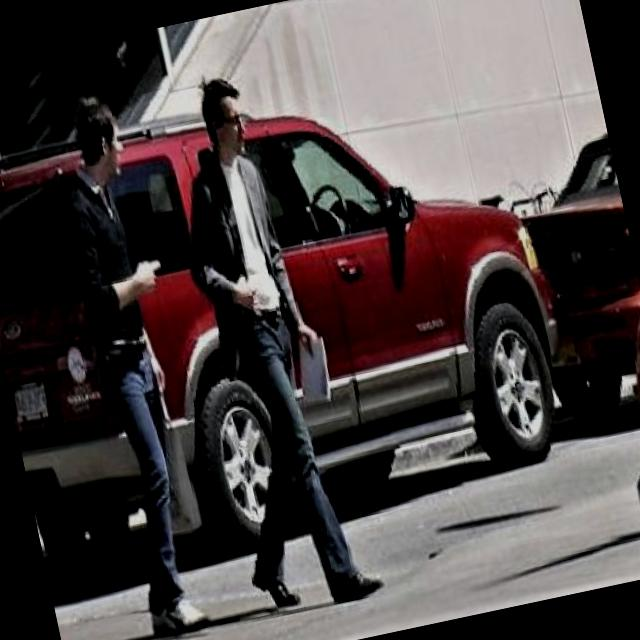Person: (146, 61, 388, 622), (26, 77, 243, 640)
